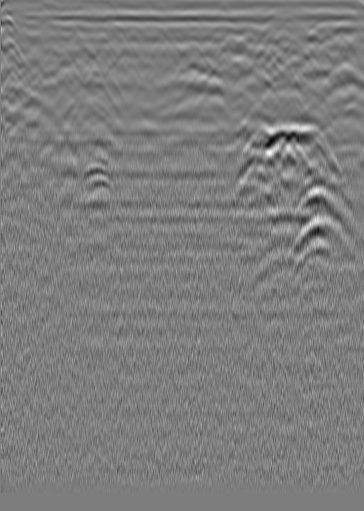가스: (77, 158, 115, 193)
상수: (329, 24, 349, 44)
오수: (26, 32, 46, 52)
우수: (185, 41, 205, 61)
